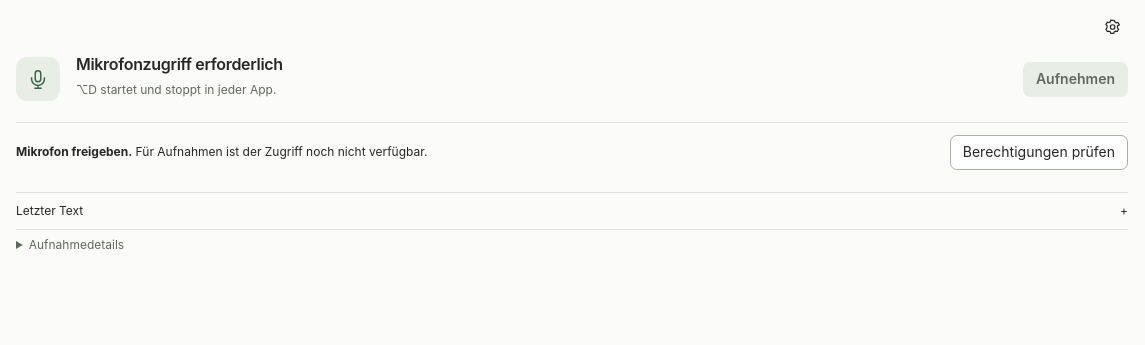
Test: permission denial replaces the request with recovery guidance and follows refreshed snapshots
What coordinates should you click on to do the following:
click the button named "Einstellungen"
I would click on:
 (1113, 27)
Its box is x1=1098 y1=12 x2=1128 y2=42.
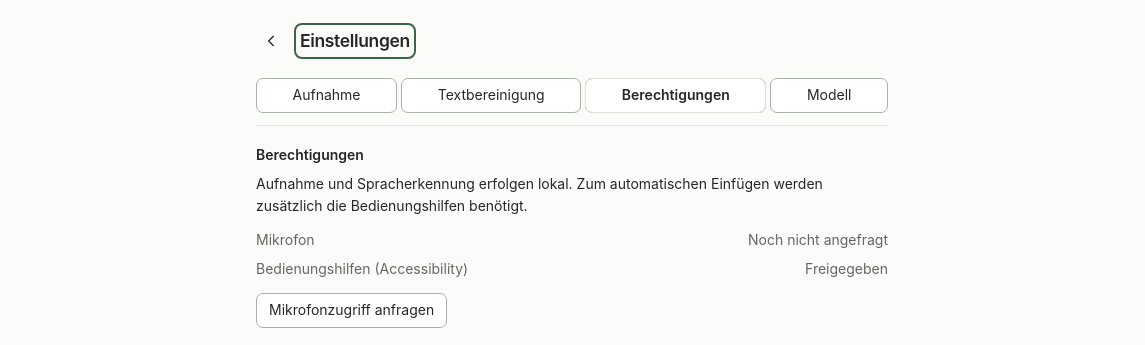
What coordinates should you click on to do the following:
click the button "Mikrofonzugriff anfragen"
I would click on:
 (352, 310)
Its box is x1=256 y1=293 x2=447 y2=328.
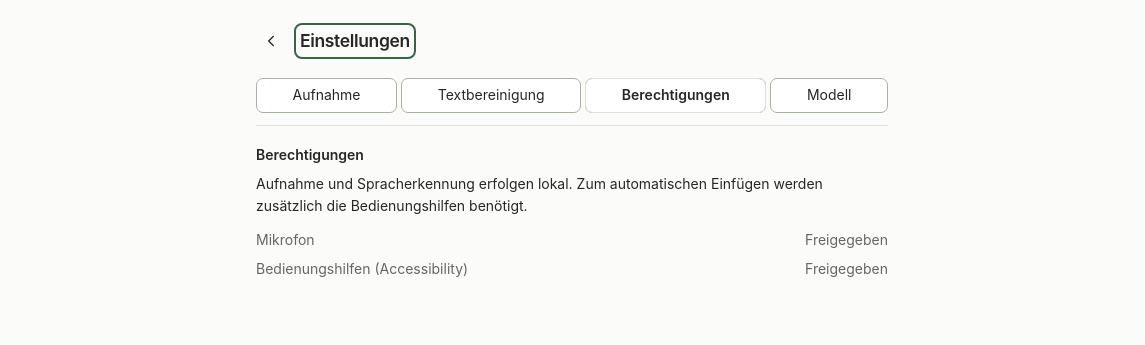
Expected: the button "Mikrofonzugriff anfragen" is gone
